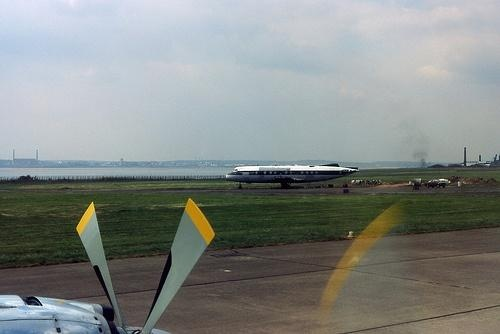aeroplane: (225, 165, 363, 189)
